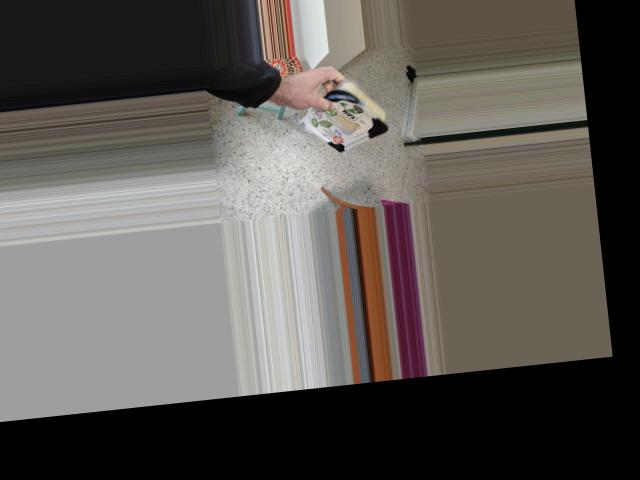cheese: (302, 53, 391, 165)
